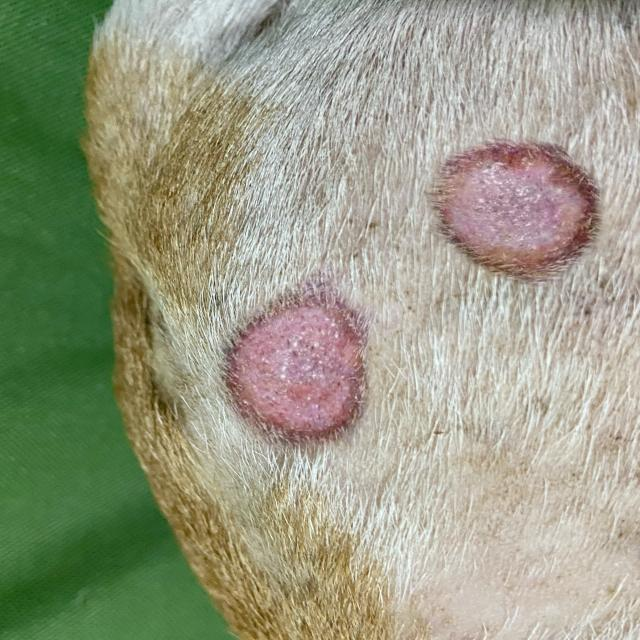ringworm: (397, 130, 626, 283), (214, 292, 408, 455)
